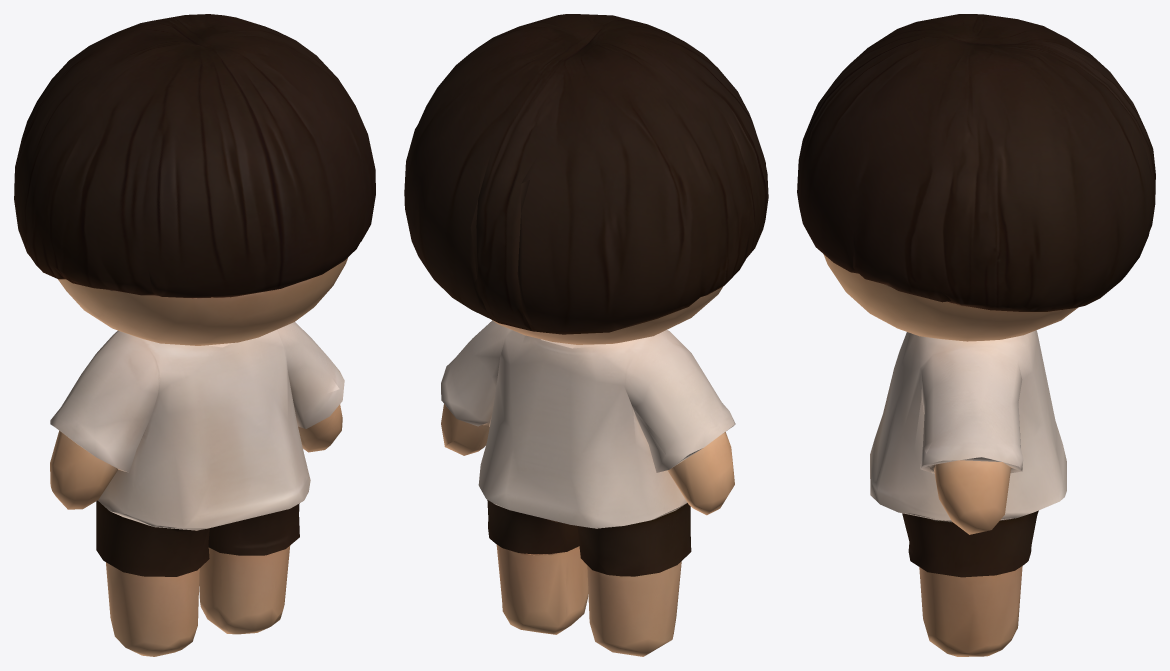
The model's file is kid.glb.
3 renders of one model, left to right at view 1: azimuth 30°, elevation 25°; view 2: azimuth 150°, elevation 25°; view 3: azimuth 270°, elevation 25°, orthographic.
Parts seen in each view (by area): view 1: model; view 2: model; view 3: model.
Boxes of the visible parts, x1,y1,x2,y2 form: model: [14, 14, 375, 656]; model: [404, 14, 768, 656]; model: [797, 14, 1155, 656].
Size of the model in its own units: 1.05 by 1.91 by 1.05.
Materials: 1 (1 with a texture image).
